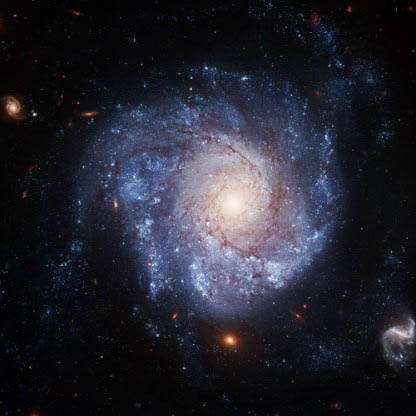NGC 1309: (2, 64, 410, 372)
